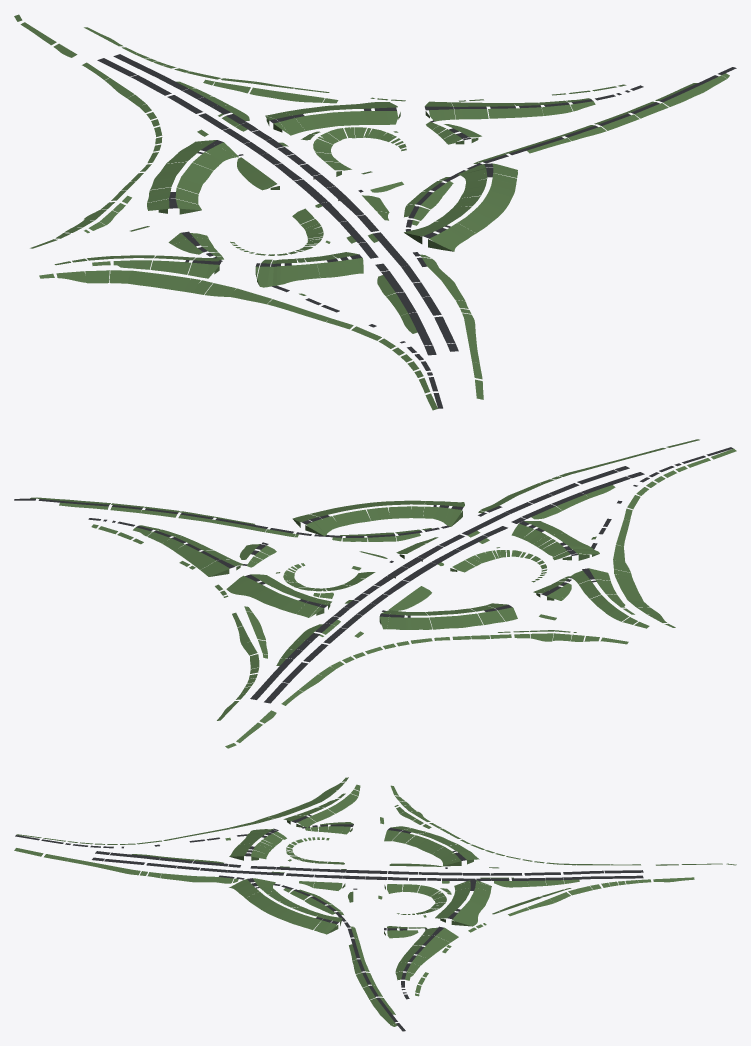
The model's file is br_h39_henday_yellowhead_1_lod1.gltf.
The picture shows the model from 3 angles, top to bottom: view 1: azimuth 30°, elevation 25°; view 2: azimuth 150°, elevation 25°; view 3: azimuth 270°, elevation 25°; orthographic projection. The views are drawn at different scales.
Visible parts, largest first — view 1: br_h39_henday_yellowhead_1_lod1; view 2: br_h39_henday_yellowhead_1_lod1; view 3: br_h39_henday_yellowhead_1_lod1.
Part boxes in pixels (x1,y1,x2,y2): br_h39_henday_yellowhead_1_lod1: (14, 14, 736, 410); br_h39_henday_yellowhead_1_lod1: (14, 439, 736, 748); br_h39_henday_yellowhead_1_lod1: (14, 777, 736, 1031).
Bounding box in the file's own units: 1393 × 28.47 × 1672.
